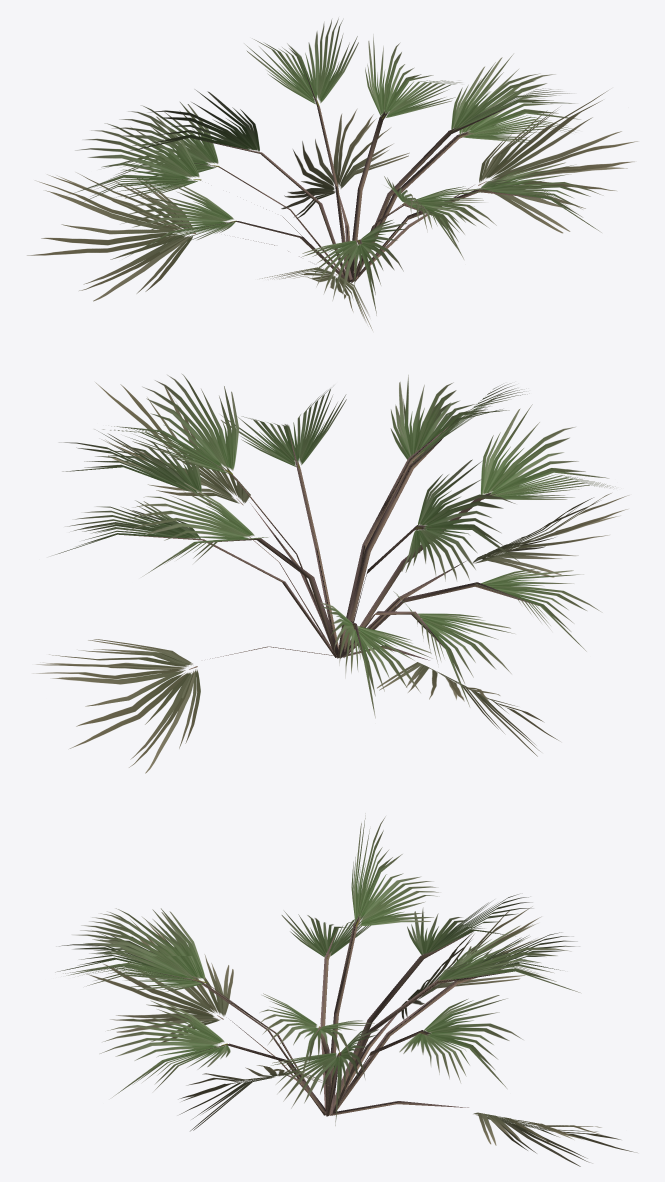
The model's file is Planta.glb.
3 views of the same model, one above another, from view 1: azimuth 30°, elevation 25°; view 2: azimuth 150°, elevation 25°; view 3: azimuth 270°, elevation 25° (orthographic). The views are drawn at different scales.
Parts seen in each view (by area): view 1: tree; view 2: tree; view 3: tree.
Part boxes in pixels (left/top/right/bottom): tree: left=27, top=18, right=638, bottom=330; tree: left=36, top=374, right=628, bottom=773; tree: left=55, top=813, right=636, bottom=1166.
Size of the model in its own units: 2.06 by 0.9125 by 2.01.
3 materials, 3 textured.
